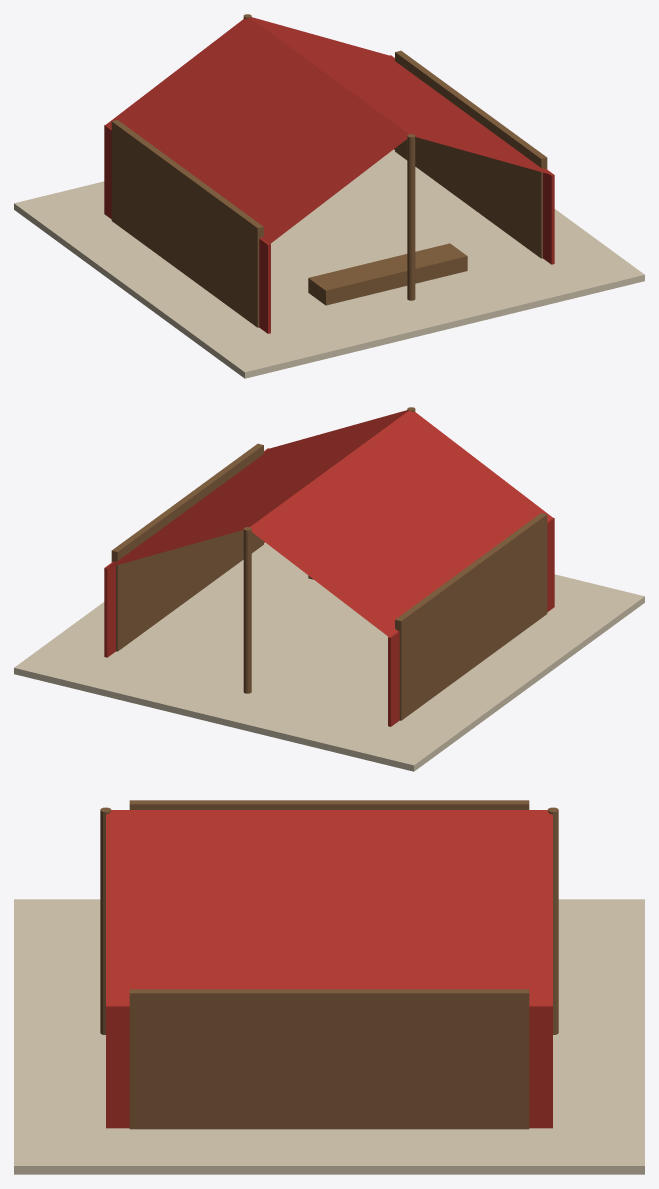
3 renders of one model, top to bottom at view 1: azimuth 30°, elevation 25°; view 2: azimuth 150°, elevation 25°; view 3: azimuth 270°, elevation 25°, orthographic. The views are drawn at different scales.
Parts seen in each view (by area): view 1: Bergfried – Steine, Säulen, Ziegel und Feuerstelle; view 2: Bergfried – Steine, Säulen, Ziegel und Feuerstelle; view 3: Bergfried – Steine, Säulen, Ziegel und Feuerstelle.
Part boxes in pixels (box(x1,y1,x2,y2)): Bergfried – Steine, Säulen, Ziegel und Feuerstelle: box(14, 14, 644, 378); Bergfried – Steine, Säulen, Ziegel und Feuerstelle: box(14, 407, 644, 771); Bergfried – Steine, Säulen, Ziegel und Feuerstelle: box(14, 800, 644, 1174).
Bounding box in the file's own units: 790 × 320 × 790.
